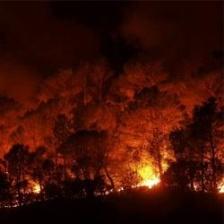fire: (13, 96, 224, 199)
